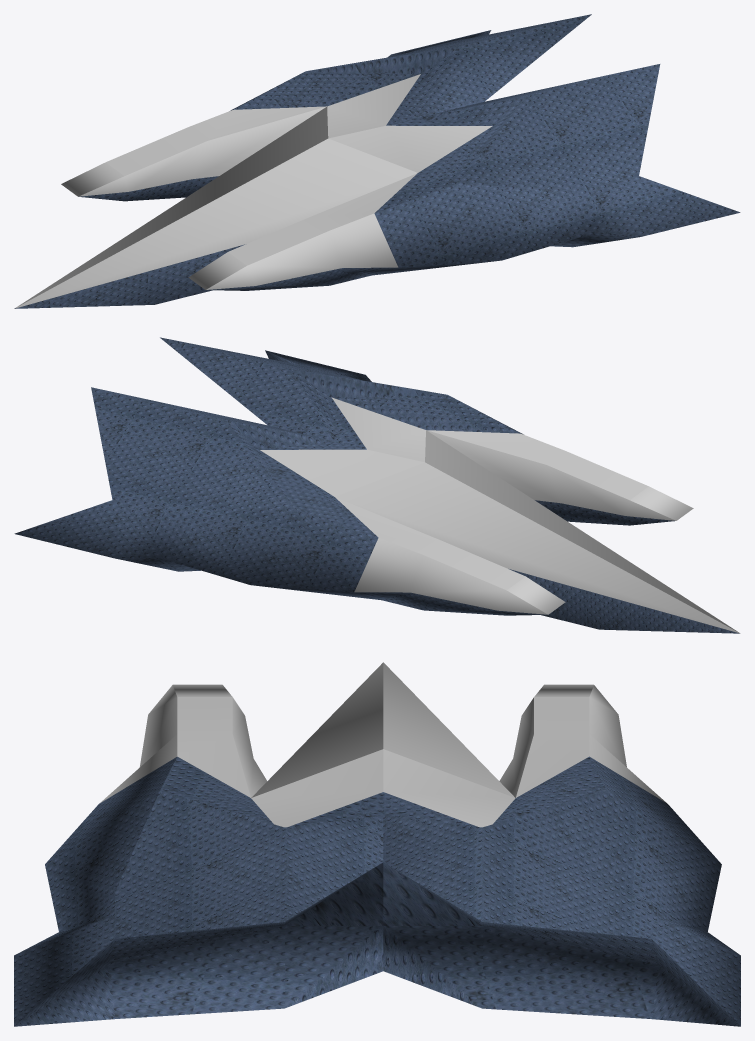
Rendered from enemy.fbx.
3 renders of one model, top to bottom at view 1: azimuth 30°, elevation 25°; view 2: azimuth 150°, elevation 25°; view 3: azimuth 270°, elevation 25°, orthographic. The views are drawn at different scales.
Parts seen in each view (by area): view 1: pCube3; view 2: pCube3; view 3: pCube3.
Boxes of the visible parts, bbox=[...] form: pCube3: bbox=[14, 14, 740, 308]; pCube3: bbox=[14, 337, 740, 633]; pCube3: bbox=[14, 662, 740, 1026].
Size of the model in its own units: 46.49 by 10.94 by 32.8.
